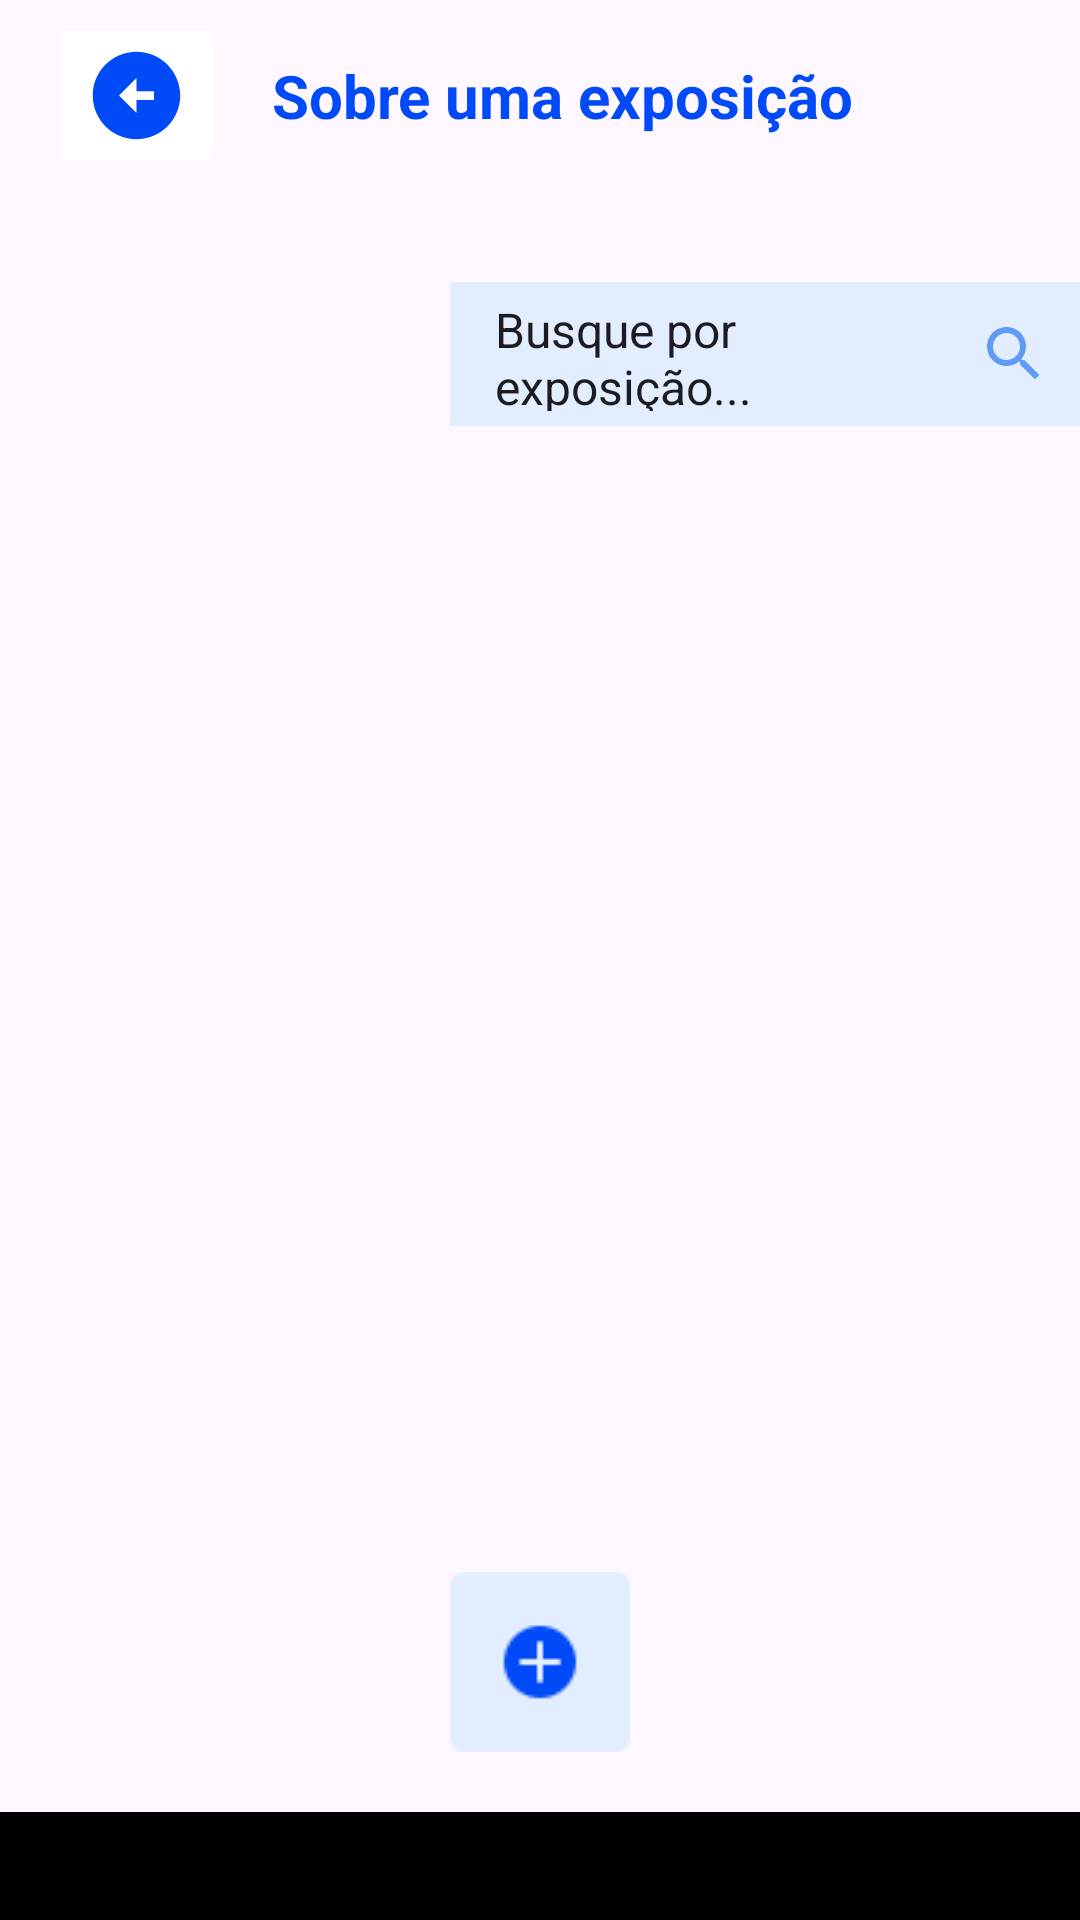

Icon bounding boxes for this 1080px x 1920px phone screenshot, format bbox=[x1, y1, x2, y2]:
arrow circle left: bbox=[92, 51, 181, 140]
